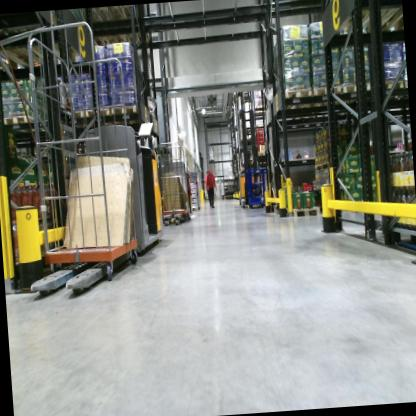forklift: (230, 103, 270, 219)
pallet: (0, 10, 78, 79), (334, 0, 404, 41), (91, 6, 148, 48), (384, 210, 416, 261), (110, 99, 150, 137), (270, 86, 315, 115), (2, 108, 49, 133), (307, 82, 343, 112), (338, 81, 375, 101), (382, 0, 403, 34), (278, 203, 321, 219), (81, 103, 112, 122), (380, 78, 405, 94), (68, 103, 82, 120), (252, 104, 268, 118), (293, 0, 329, 6), (255, 151, 269, 158)
pallet_truck: (12, 34, 178, 305), (156, 134, 201, 233)
